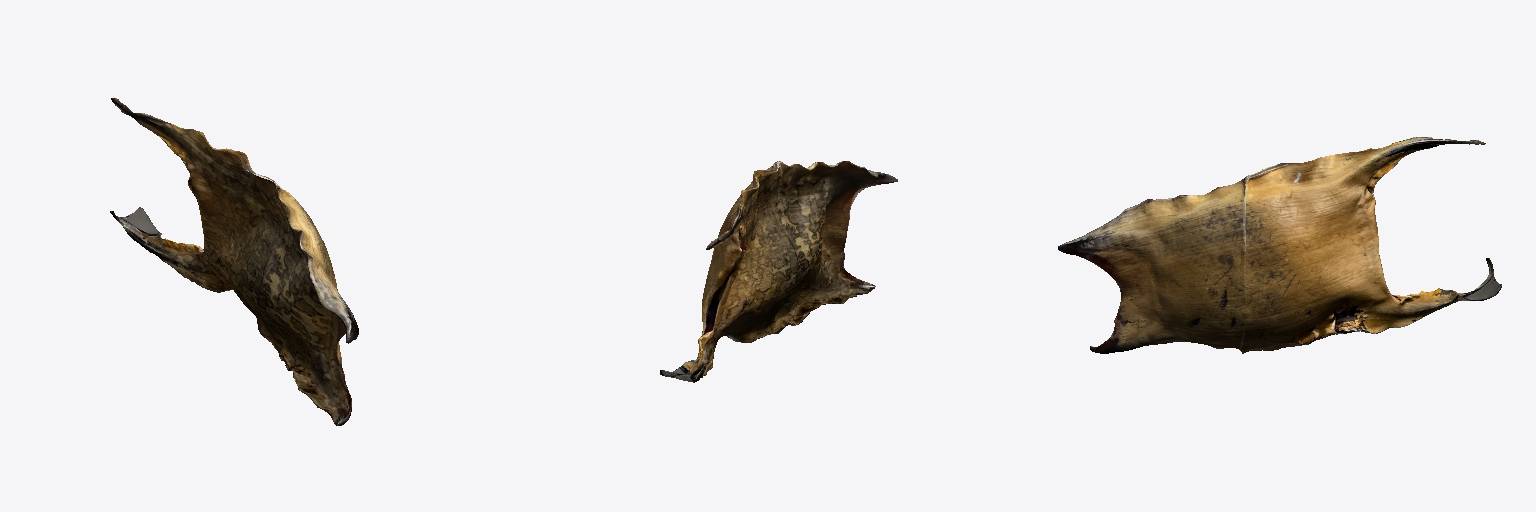
3 views of the same model, side by side, from view 1: azimuth 30°, elevation 25°; view 2: azimuth 150°, elevation 25°; view 3: azimuth 270°, elevation 25° (orthographic).
Size of the model in its own units: 0.0263 by 0.055 by 0.1104.
1 materials, 1 textured.